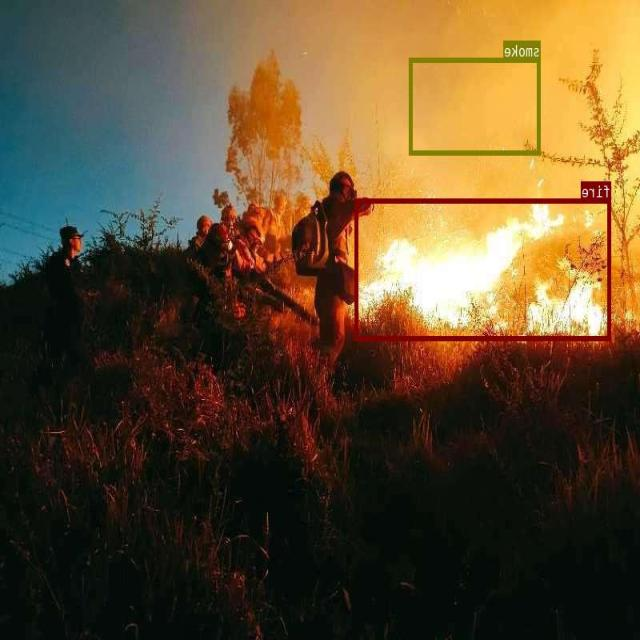fire: (356, 198, 612, 340)
smoke: (410, 57, 541, 154)
